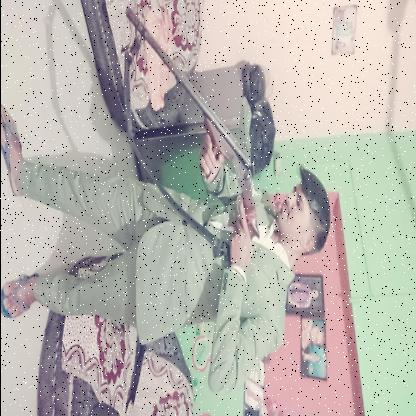rifle: (121, 2, 262, 246)
